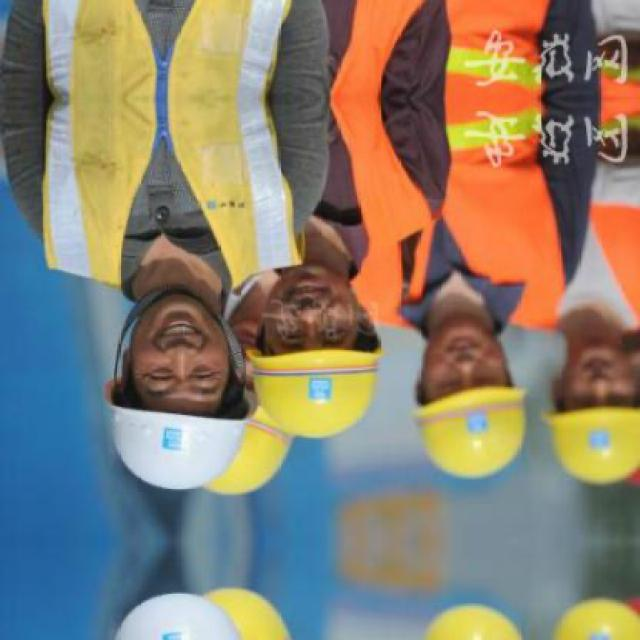con casco: (12, 306, 211, 474), (185, 290, 344, 454), (397, 335, 542, 456), (527, 371, 640, 485)
